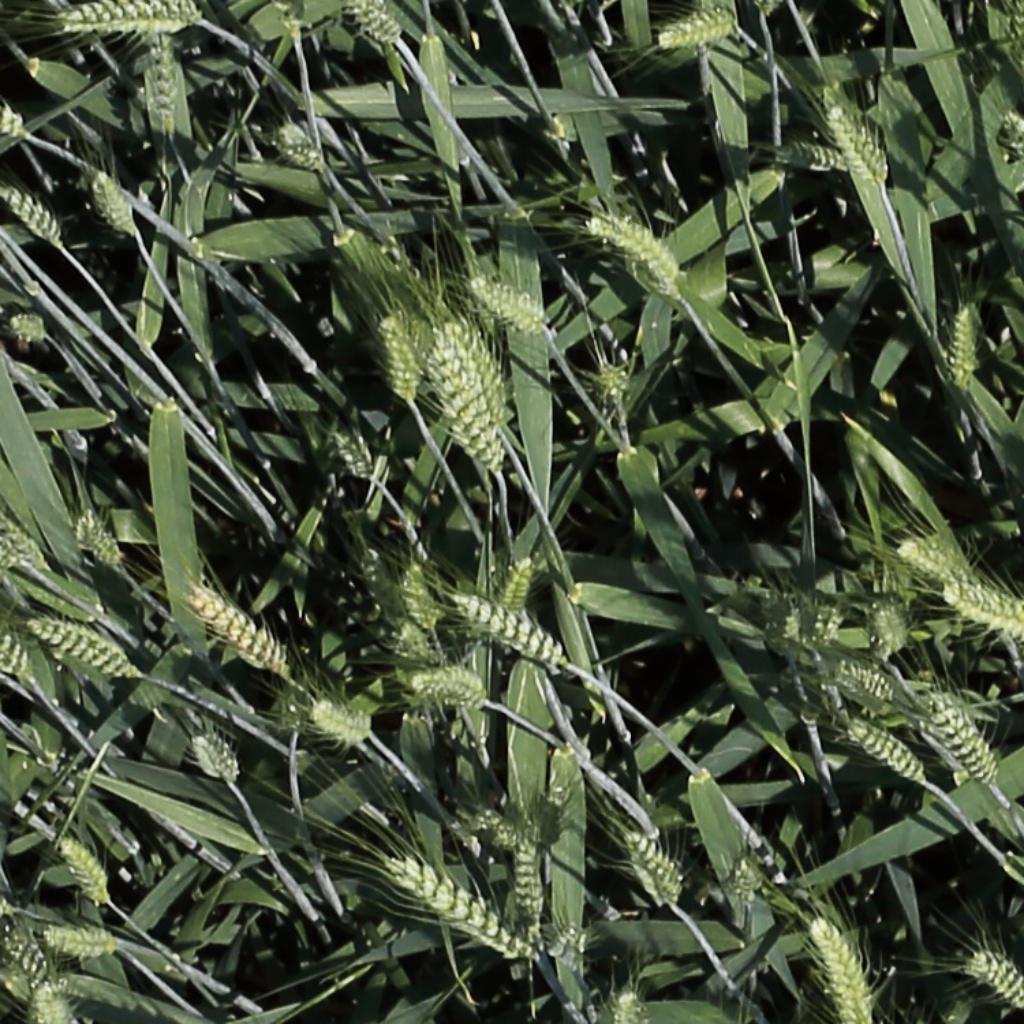0-0: (391, 860, 535, 962), (421, 291, 512, 436), (425, 348, 507, 477), (188, 588, 289, 677), (453, 593, 567, 666), (928, 689, 1002, 793), (460, 792, 561, 862), (25, 618, 137, 679), (591, 214, 684, 286), (812, 914, 873, 1022), (827, 99, 890, 187), (471, 277, 556, 342), (850, 720, 931, 786), (52, 0, 212, 33), (623, 828, 686, 910), (656, 0, 744, 55), (55, 834, 113, 912), (143, 26, 183, 139), (0, 182, 65, 247), (1, 917, 55, 995), (379, 311, 423, 404), (88, 163, 141, 240), (400, 555, 443, 642), (899, 540, 972, 591), (545, 904, 589, 986), (943, 588, 1024, 632), (73, 507, 125, 574), (0, 506, 49, 576), (968, 951, 1024, 1010), (306, 692, 372, 741), (189, 730, 240, 791), (515, 835, 546, 934), (499, 548, 540, 621), (329, 423, 376, 486), (38, 925, 122, 958), (391, 617, 442, 669), (836, 663, 901, 703), (274, 121, 327, 169), (953, 294, 978, 395), (350, 0, 405, 45), (875, 596, 907, 667), (412, 675, 487, 703), (779, 143, 854, 169), (734, 856, 761, 916), (614, 983, 652, 1024), (32, 976, 64, 1024), (996, 106, 1024, 156), (0, 96, 26, 148), (6, 315, 49, 339), (0, 537, 22, 575), (753, 0, 784, 19)
